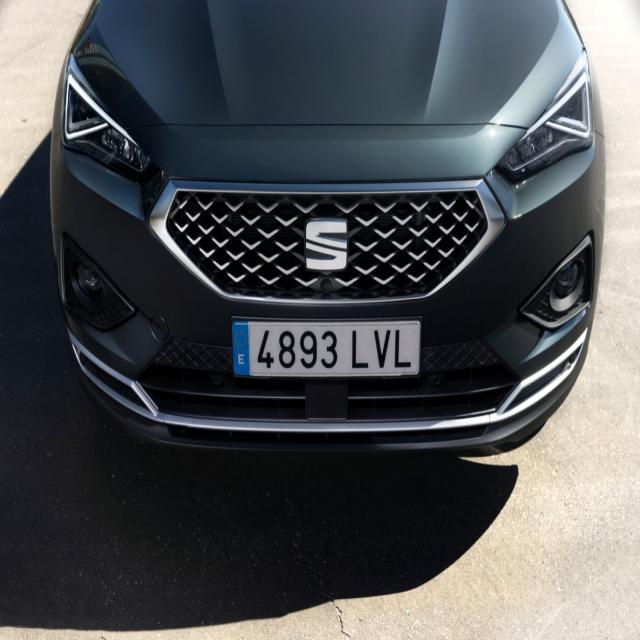license_plate-34Td: (234, 320, 421, 377)
